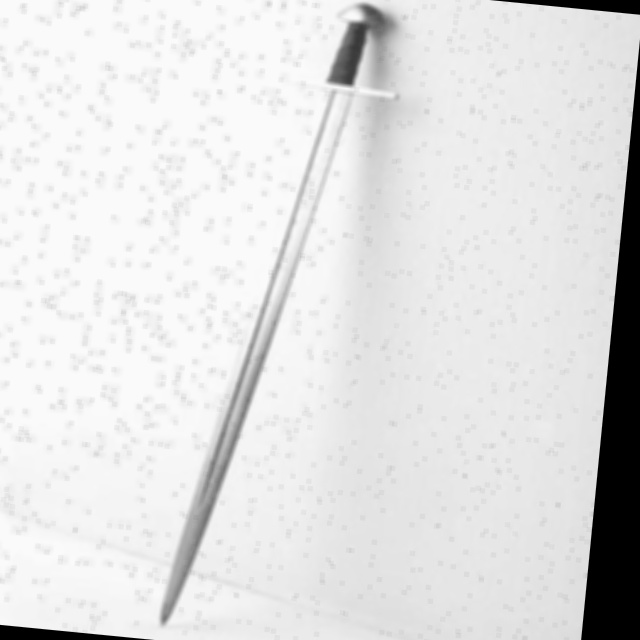Sharp-Object: (157, 0, 380, 640)
